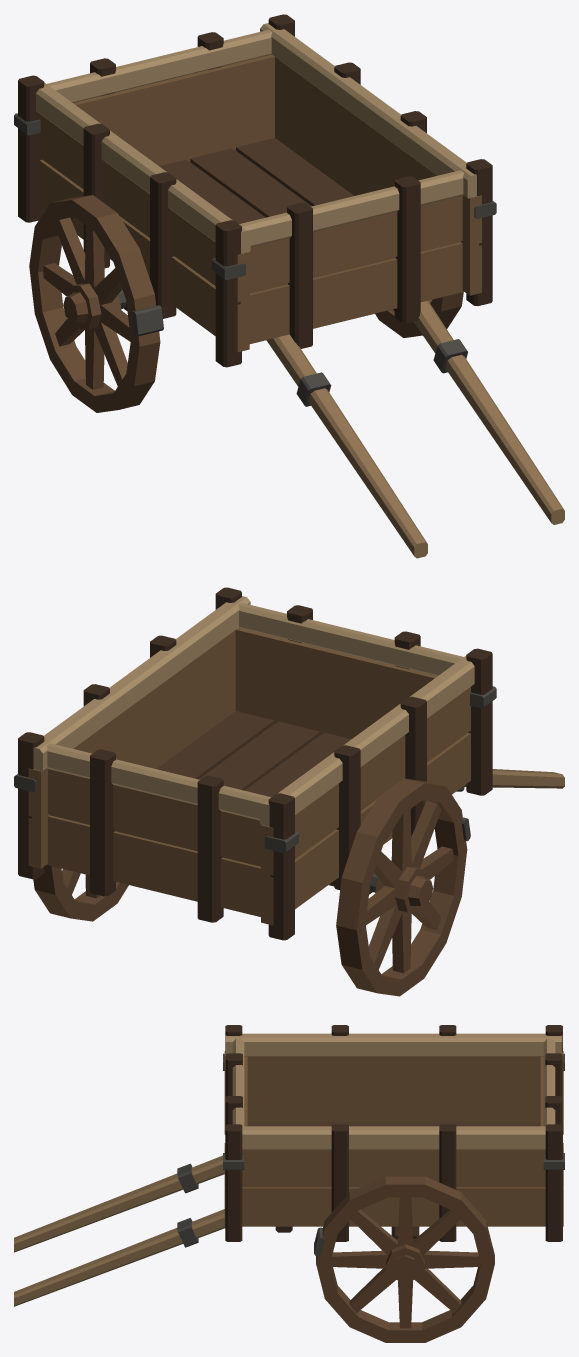
Rendered from wooden-hand-cart-3ae5b5.glb.
The picture shows the model from 3 angles, top to bottom: view 1: azimuth 30°, elevation 25°; view 2: azimuth 150°, elevation 25°; view 3: azimuth 270°, elevation 25°; orthographic projection. The views are drawn at different scales.
Visible parts, largest first — view 1: cart-body, wheel-left-mesh, wheel-right-mesh; view 2: cart-body, wheel-left-mesh, wheel-right-mesh; view 3: cart-body, wheel-right-mesh.
Boxes of the visible parts, left/top/right/bottom form: cart-body: left=14, top=14, right=564, bottom=558; wheel-left-mesh: left=29, top=195, right=163, bottom=412; wheel-right-mesh: left=375, top=292, right=463, bottom=337; cart-body: left=14, top=587, right=564, bottom=940; wheel-left-mesh: left=336, top=778, right=470, bottom=996; wheel-right-mesh: left=33, top=865, right=128, bottom=921; cart-body: left=14, top=1025, right=564, bottom=1306; wheel-right-mesh: left=314, top=1176, right=494, bottom=1342.
Bounding box in the file's own units: 1.46 × 0.9632 × 2.41.
